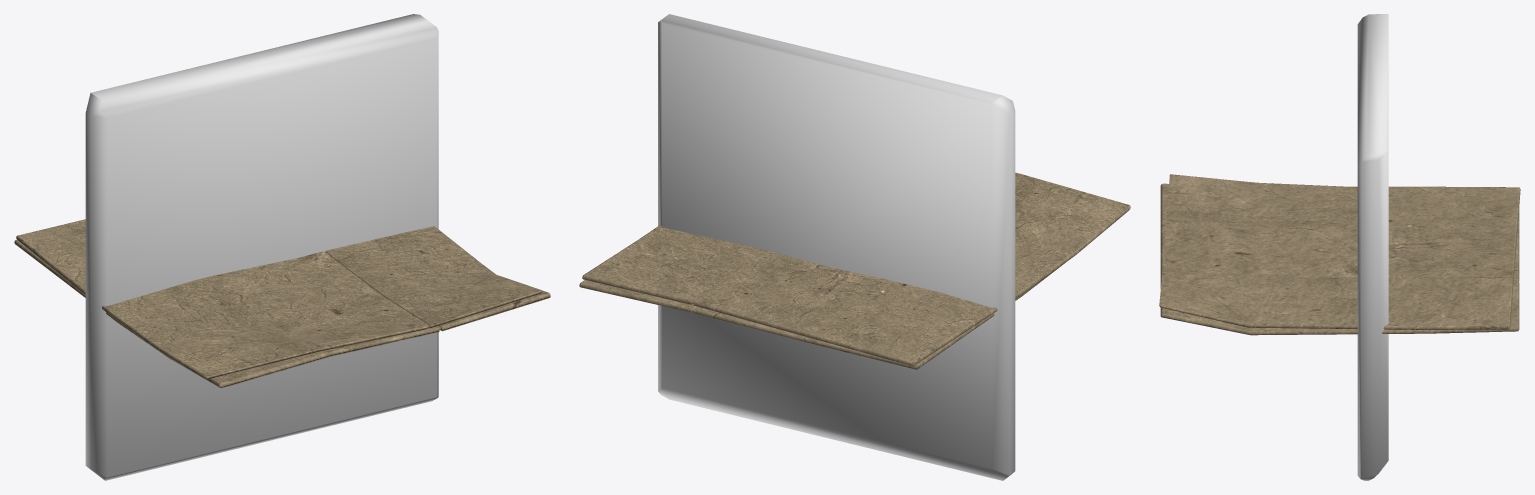
The model's file is SM_Cardboard_Crushed_01.fbx.
3 renders of one model, left to right at view 1: azimuth 30°, elevation 25°; view 2: azimuth 150°, elevation 25°; view 3: azimuth 270°, elevation 25°, orthographic. The views are drawn at different scales.
Parts seen in each view (by area): view 1: SM_Cardboard_Crushed_01_ConvexHulls, SM_Cardboard_Crushed_01; view 2: SM_Cardboard_Crushed_01_ConvexHulls, SM_Cardboard_Crushed_01; view 3: SM_Cardboard_Crushed_01, SM_Cardboard_Crushed_01_ConvexHulls.
Boxes of the visible parts, bbox=[...] form: SM_Cardboard_Crushed_01_ConvexHulls: bbox=[85, 14, 438, 480]; SM_Cardboard_Crushed_01: bbox=[14, 219, 550, 388]; SM_Cardboard_Crushed_01_ConvexHulls: bbox=[658, 14, 1015, 480]; SM_Cardboard_Crushed_01: bbox=[579, 172, 1130, 369]; SM_Cardboard_Crushed_01: bbox=[1159, 174, 1520, 335]; SM_Cardboard_Crushed_01_ConvexHulls: bbox=[1357, 14, 1388, 480].
Bounding box in the file's own units: 0.7167 × 0.7532 × 0.7512.
